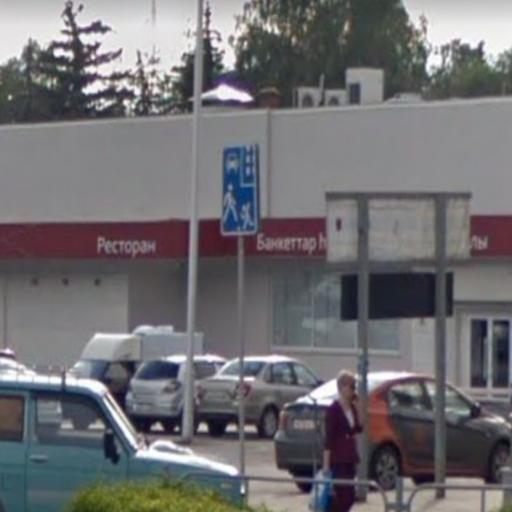traffic_sign: (221, 141, 262, 240)
